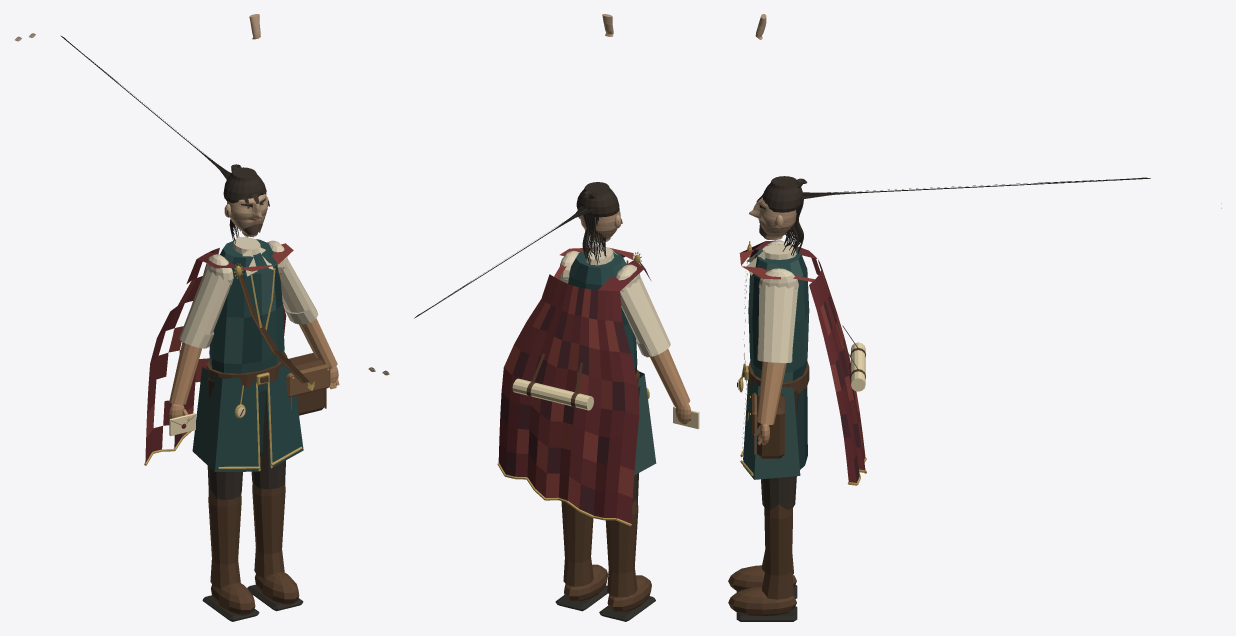
Rendered from courier.glb.
The picture shows the model from 3 angles, left to right: view 1: azimuth 30°, elevation 25°; view 2: azimuth 150°, elevation 25°; view 3: azimuth 270°, elevation 25°; orthographic projection.
Parts seen in each view (by area): view 1: Waistcoat, Split_coat_R, Cloak_folds, Boot_shaft_R, Boot_shaft_L, Split_coat_L, Linen_sleeve_R, Forearm_R, Trouser_thigh_L, Linen_sleeve_L, Hair_target_top, Boot_toe_R (+9 smaller); view 2: Cloak_folds, Boot_shaft_R, Boot_shaft_L, Linen_sleeve_R, Waistcoat, Split_coat_R, Map_roll, Forearm_R, Hair_target_top, Boot_toe_L, Boot_toe_R, Face (+2 smaller); view 3: Cloak_folds, Waistcoat, Linen_sleeve_L, Boot_shaft_L, Split_coat_L, Boot_toe_L, Forearm_L, Hair_target_top, Trouser_thigh_L, Messenger_satchel, Face, Back_coat (+1 smaller).
Boxes of the visible parts, x1,y1,x2,y2 form: Waistcoat: (209, 239, 284, 392); Split_coat_R: (192, 367, 258, 471); Cloak_folds: (145, 243, 293, 463); Boot_shaft_R: (208, 490, 241, 588); Boot_shaft_L: (252, 481, 285, 577); Split_coat_L: (266, 358, 303, 468); Linen_sleeve_R: (179, 267, 231, 348); Forearm_R: (169, 342, 201, 404); Trouser_thigh_L: (251, 392, 285, 489); Linen_sleeve_L: (279, 258, 318, 324); Hair_target_top: (223, 167, 266, 203); Boot_toe_R: (211, 582, 255, 615); Cloak_folds: (498, 247, 650, 523); Boot_shaft_R: (605, 499, 638, 597); Boot_shaft_L: (561, 501, 593, 586); Linen_sleeve_R: (620, 276, 670, 357); Waistcoat: (568, 249, 637, 374); Split_coat_R: (634, 371, 656, 475); Map_roll: (512, 378, 593, 410); Forearm_R: (650, 348, 690, 407); Hair_target_top: (576, 182, 619, 217); Boot_toe_L: (564, 564, 608, 601); Boot_toe_R: (607, 575, 651, 612); Face: (580, 208, 620, 242); Cloak_folds: (739, 240, 865, 482); Waistcoat: (748, 244, 809, 382); Linen_sleeve_L: (758, 284, 798, 362); Boot_shaft_L: (762, 504, 793, 599); Split_coat_L: (743, 372, 800, 479); Boot_toe_L: (728, 586, 796, 616); Forearm_L: (757, 361, 786, 424); Hair_target_top: (763, 176, 802, 212); Trouser_thigh_L: (761, 390, 798, 509); Messenger_satchel: (757, 394, 784, 458); Face: (749, 197, 796, 240); Back_coat: (795, 386, 807, 469).
Bounding box in the file's own units: 0.7395 × 2.41 × 1.83.
